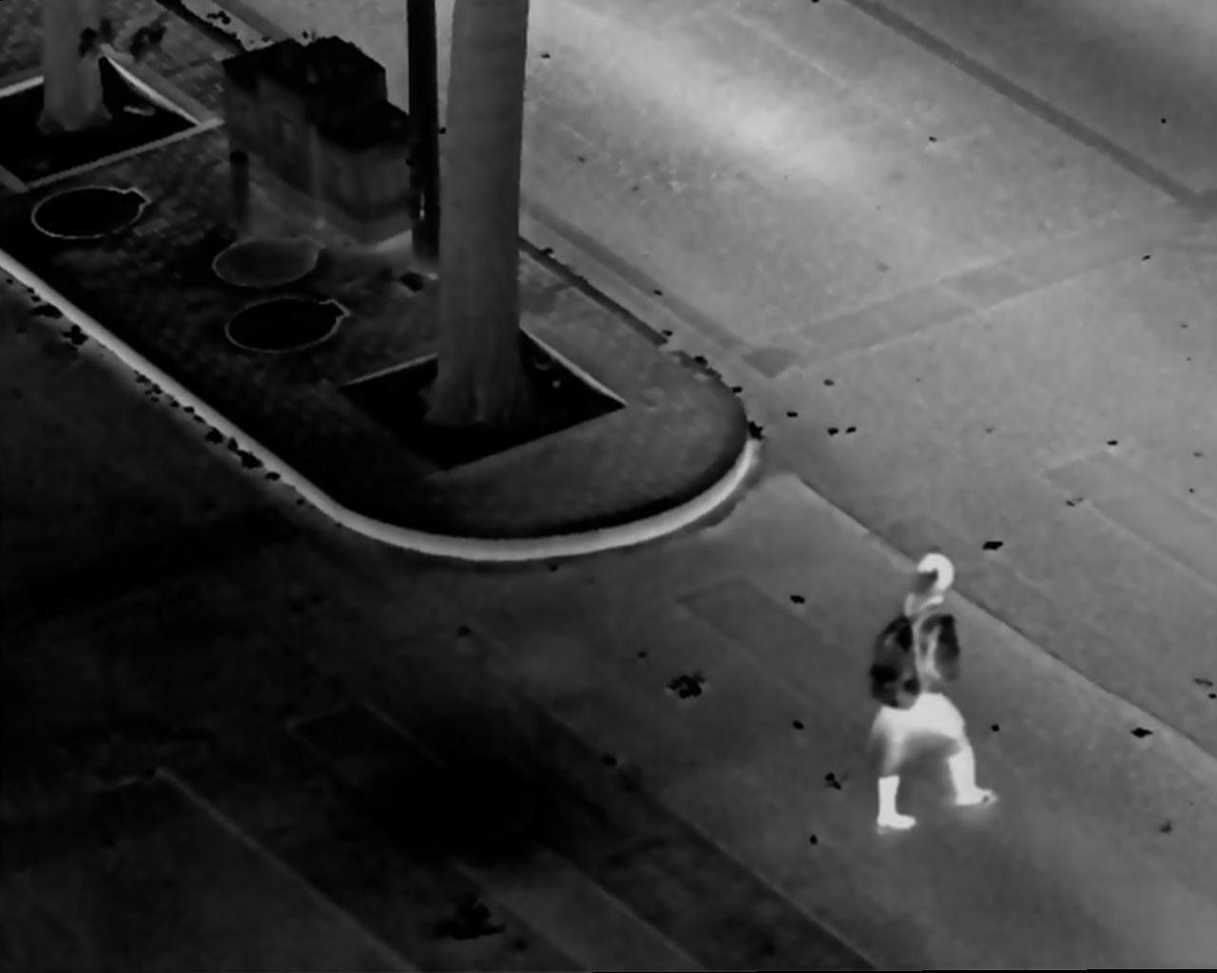person: (867, 546, 1002, 841)
